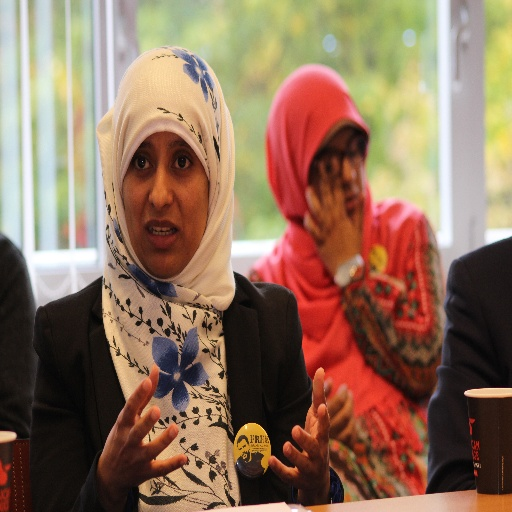hand: (93, 383, 181, 494), (266, 365, 331, 497), (300, 154, 368, 279), (322, 375, 359, 449)
